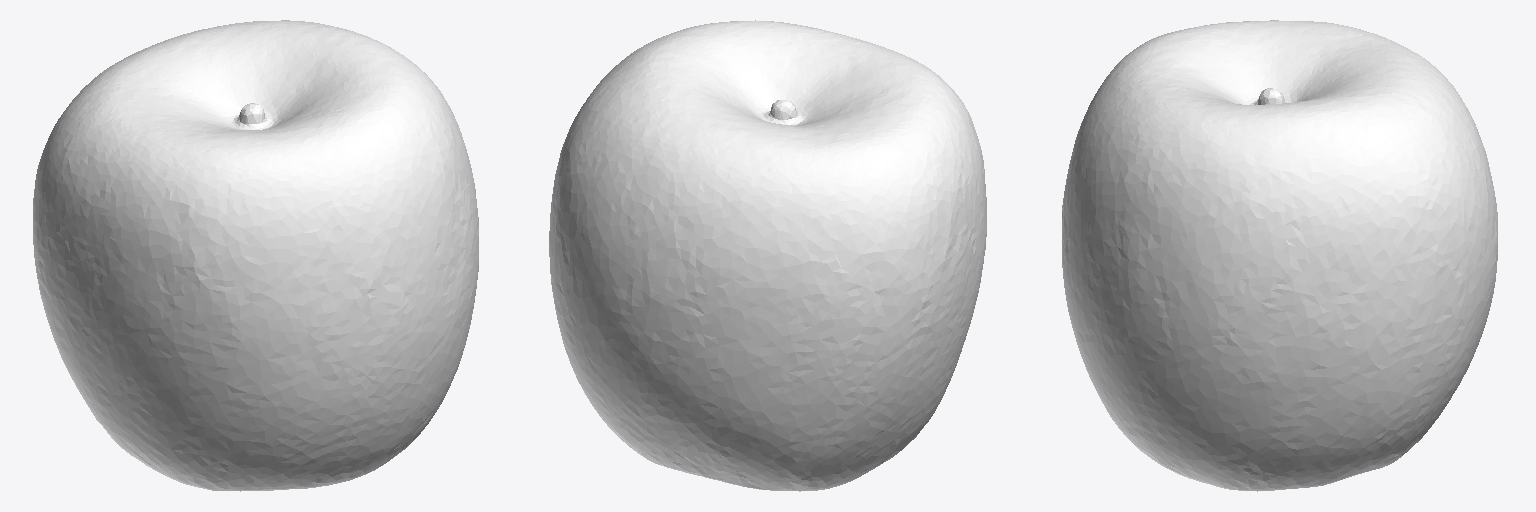
robot.urdf — 013_apple:
<?xml version='1.0' encoding='ASCII'?>
<robot name="013_apple">
    <link name="object_013_apple_base_link">
        <visual>
            <origin rpy="0 0 0" xyz="0 0 0"/>
            <geometry>
                <mesh filename="textured_simple.obj" scale="1.0 1.0 1.0"/>
            </geometry>
            <material name="texture">
                <color rgba="1.0 1.0 1.0 1.0" />
            </material>
        </visual>
        <collision>
            <origin rpy="0 0 0" xyz="0 0 0"/>
            <geometry>
                <mesh filename="textured_simple.obj" scale="1.0 1.0 1.0"/>
            </geometry>
        </collision>   
        <inertial>
            <mass value="0.068"/>
            <inertia ixx='1.507269658382916e-07' ixy='2.4676297097388035e-10' ixz='4.1997054651494696e-10' iyy='1.5318340266758008e-07' iyz='-5.195513634167131e-10' izz='1.5251114473635457e-07'/>
        </inertial>
    </link>
</robot>

--- Render facts (derived) ---
3 views of the same robot in one strip: view 1: azimuth 30°, elevation 25°; view 2: azimuth 150°, elevation 25°; view 3: azimuth 270°, elevation 25° (orthographic).
Model 013_apple with 1 links and 0 joints (none), rooted at object_013_apple_base_link, posed every joint at zero.
Visible links, largest first — view 1: object_013_apple_base_link; view 2: object_013_apple_base_link; view 3: object_013_apple_base_link.
Link boxes in pixels (<box>): object_013_apple_base_link: <box>33,20,478,491</box>; object_013_apple_base_link: <box>549,20,986,491</box>; object_013_apple_base_link: <box>1062,20,1497,491</box>.
Bounding box of the posed robot: 0.0754 × 0.0749 × 0.0719 m (x, y, z).
Meshes: 1 distinct files referenced, 1 mesh visuals loaded (1 OBJ).
